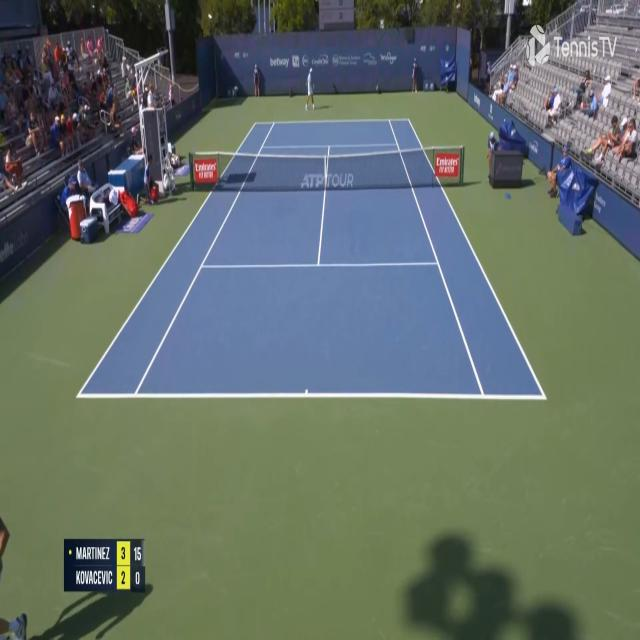tennis-player: (305, 66, 316, 111)
